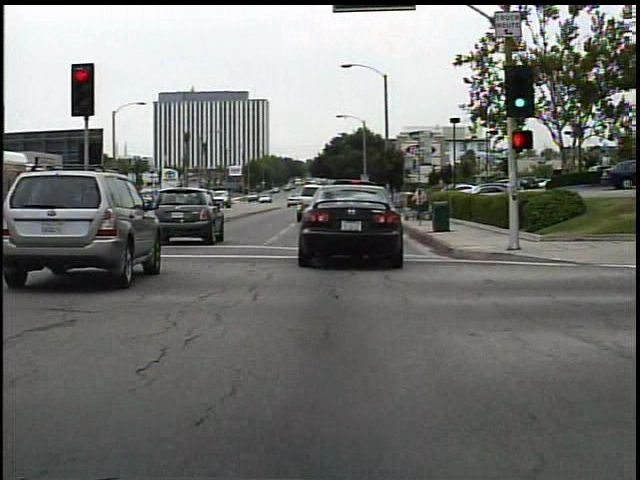person: (409, 182, 428, 225)
